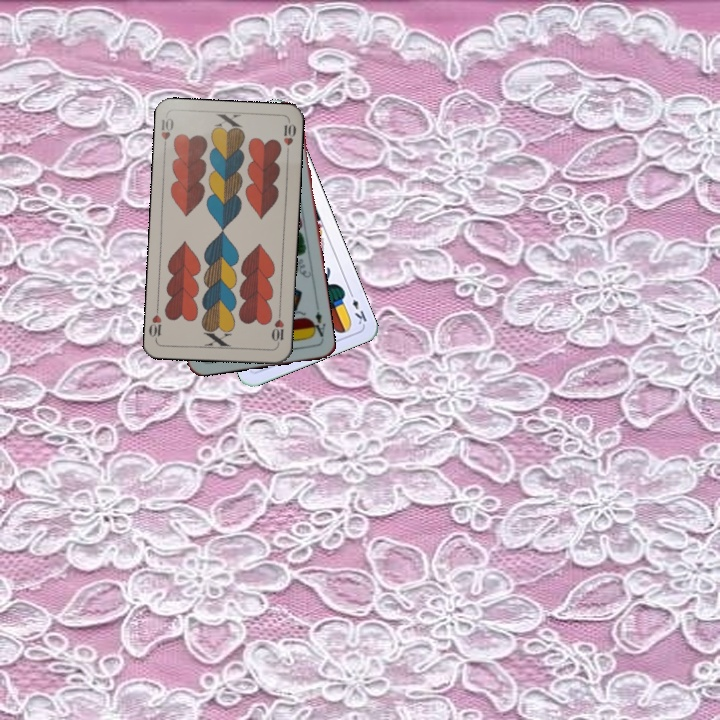EA: (307, 307, 328, 343)
EK: (345, 287, 370, 327)
H10: (268, 307, 287, 348), (157, 114, 176, 153)
